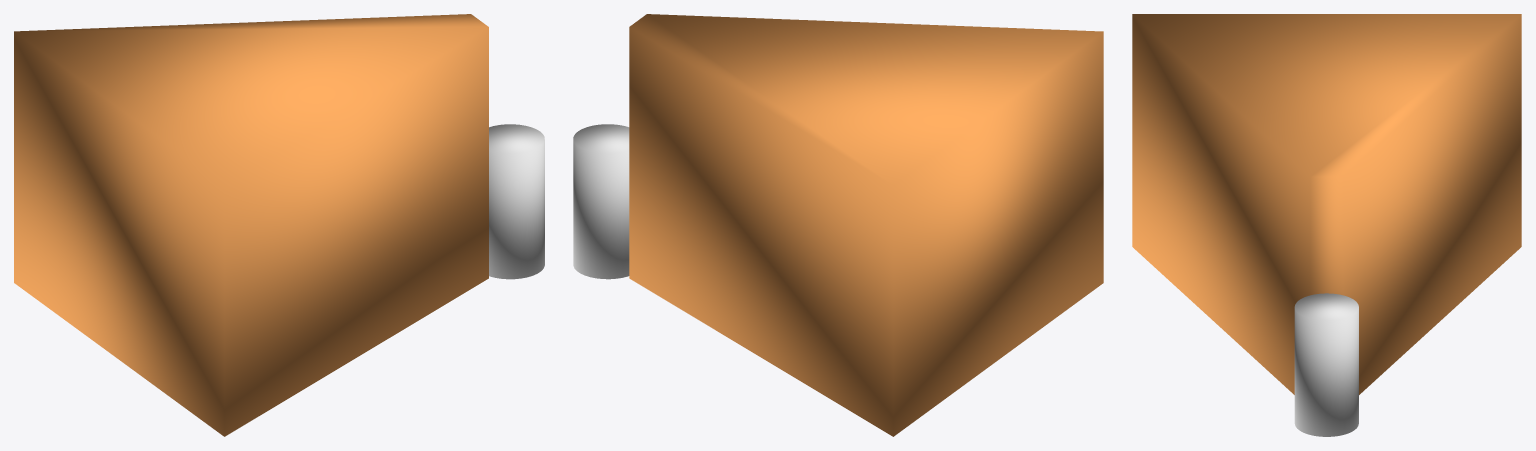
The model's file is NOT.glb.
The picture shows the model from 3 angles, left to right: view 1: azimuth 30°, elevation 25°; view 2: azimuth 150°, elevation 25°; view 3: azimuth 270°, elevation 25°; orthographic projection. The views are drawn at different scales.
Parts seen in each view (by area): view 1: 1, Cot1; view 2: 1, Cot1; view 3: 1, Cot1.
Part boxes in pixels (x1,y1,x2,y2): 1: (14,14,488,436); Cot1: (489,124,544,279); 1: (629,14,1103,436); Cot1: (573,124,629,279); 1: (1132,14,1521,394); Cot1: (1294,293,1358,436).
Bounding box in the file's own units: 3.5 × 2 × 3.03.
